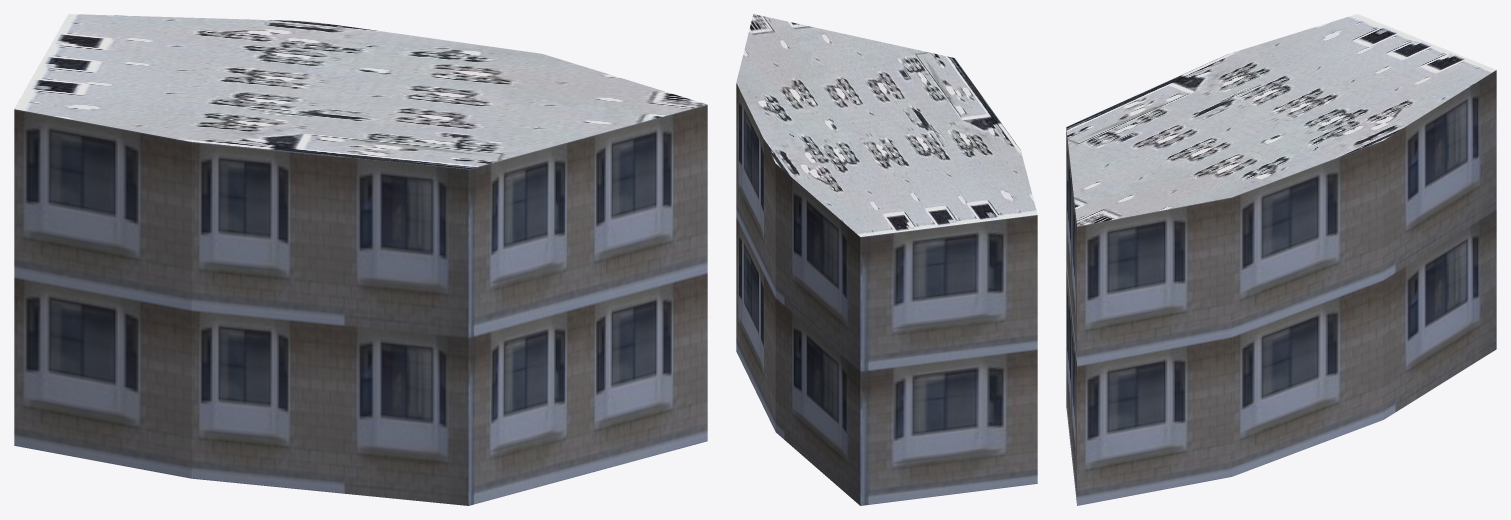
Rendered from ResTex__4330.fbx.
3 renders of one model, left to right at view 1: azimuth 30°, elevation 25°; view 2: azimuth 150°, elevation 25°; view 3: azimuth 270°, elevation 25°, orthographic. The views are drawn at different scales.
Parts seen in each view (by area): view 1: CityEngineMaterial_3_m, CityEngineMaterial_m; view 2: CityEngineMaterial_3_m, CityEngineMaterial_m; view 3: CityEngineMaterial_3_m, CityEngineMaterial_m.
Part boxes in pixels (x1=…): CityEngineMaterial_3_m: x1=14, y1=104, x2=707, y2=505; CityEngineMaterial_m: x1=14, y1=14, x2=706, y2=169; CityEngineMaterial_3_m: x1=736, y1=83, x2=1037, y2=505; CityEngineMaterial_m: x1=736, y1=14, x2=1037, y2=236; CityEngineMaterial_3_m: x1=1066, y1=70, x2=1496, y2=505; CityEngineMaterial_m: x1=1066, y1=14, x2=1495, y2=226.
Bounding box in the file's own units: 9.79 × 6 × 8.38.
2 materials, 2 textured.
